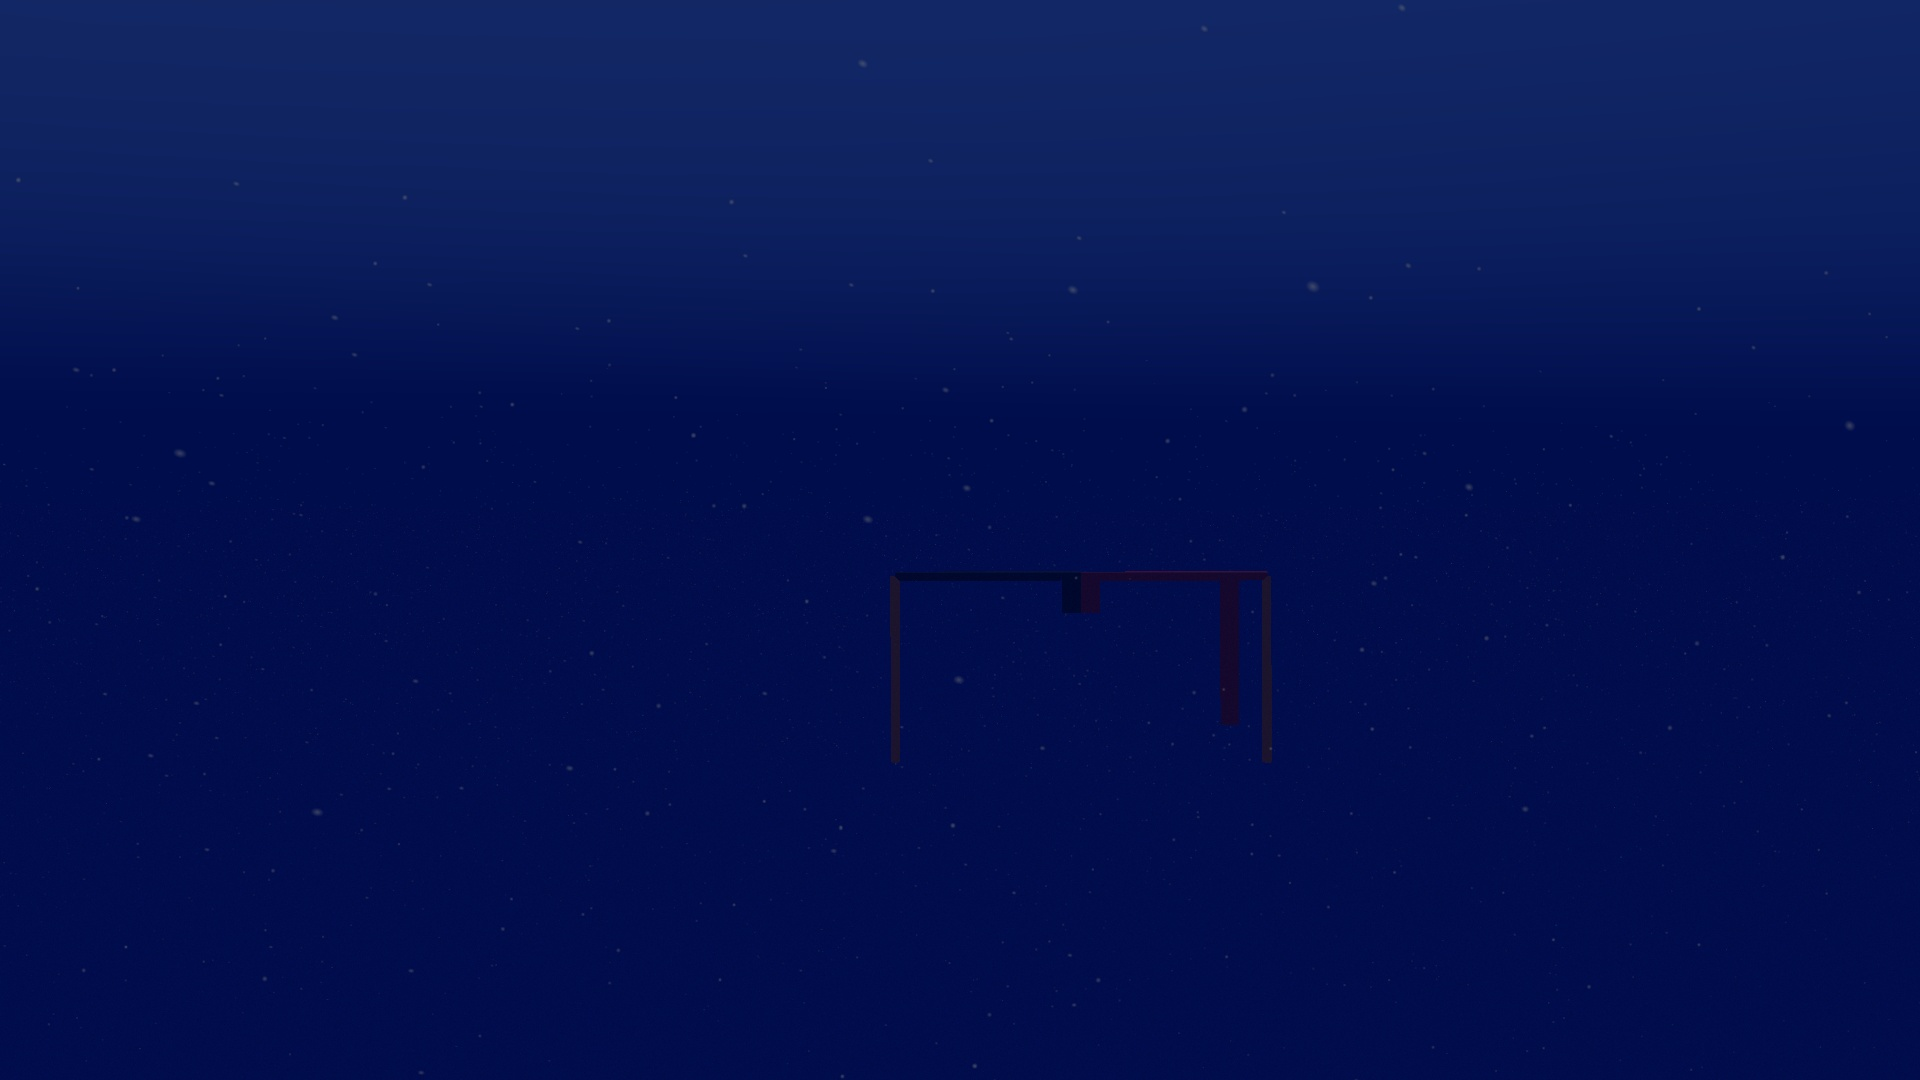Gate: (885, 563, 1279, 775)
